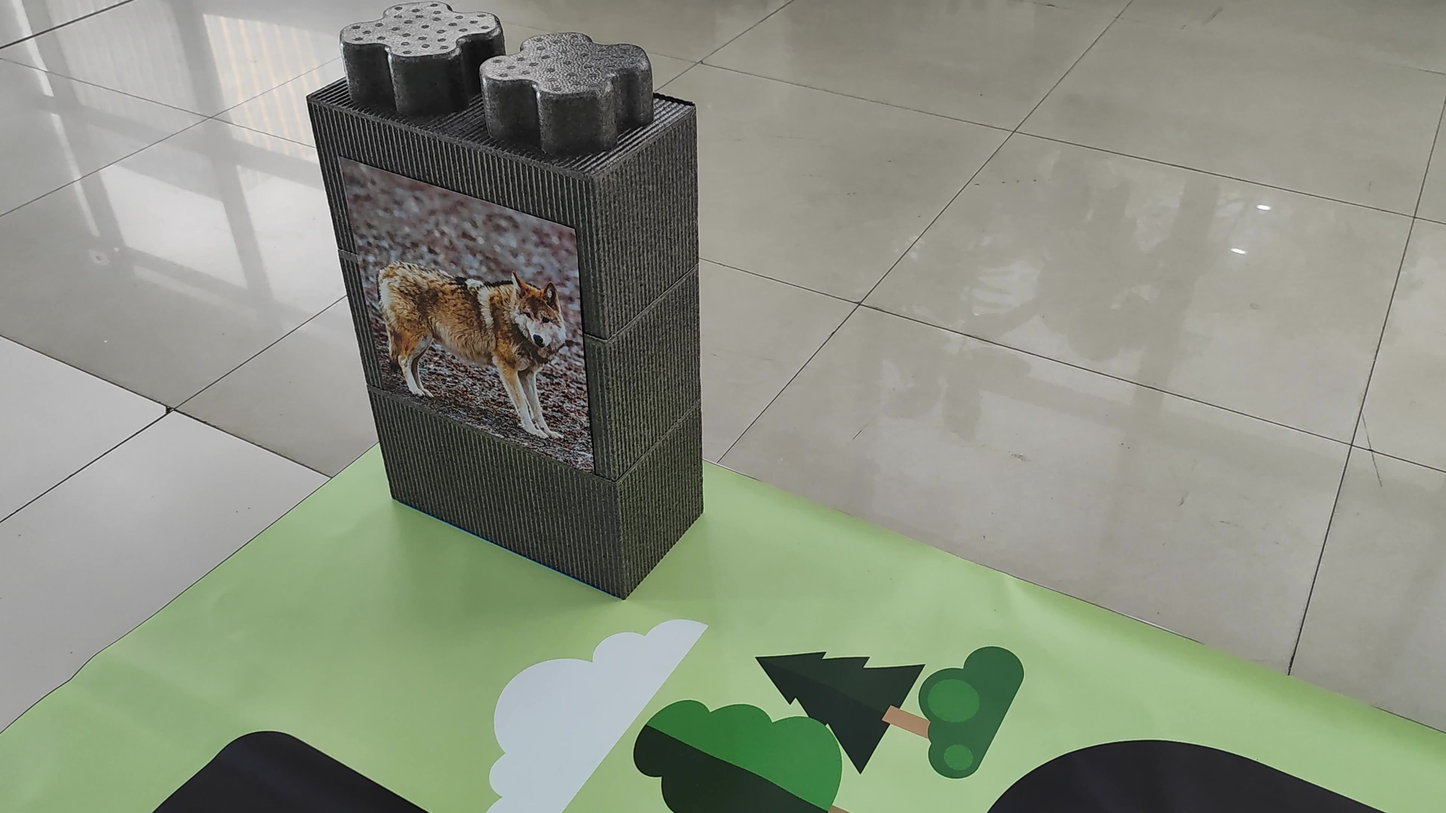wolf: (360, 218, 576, 432)
